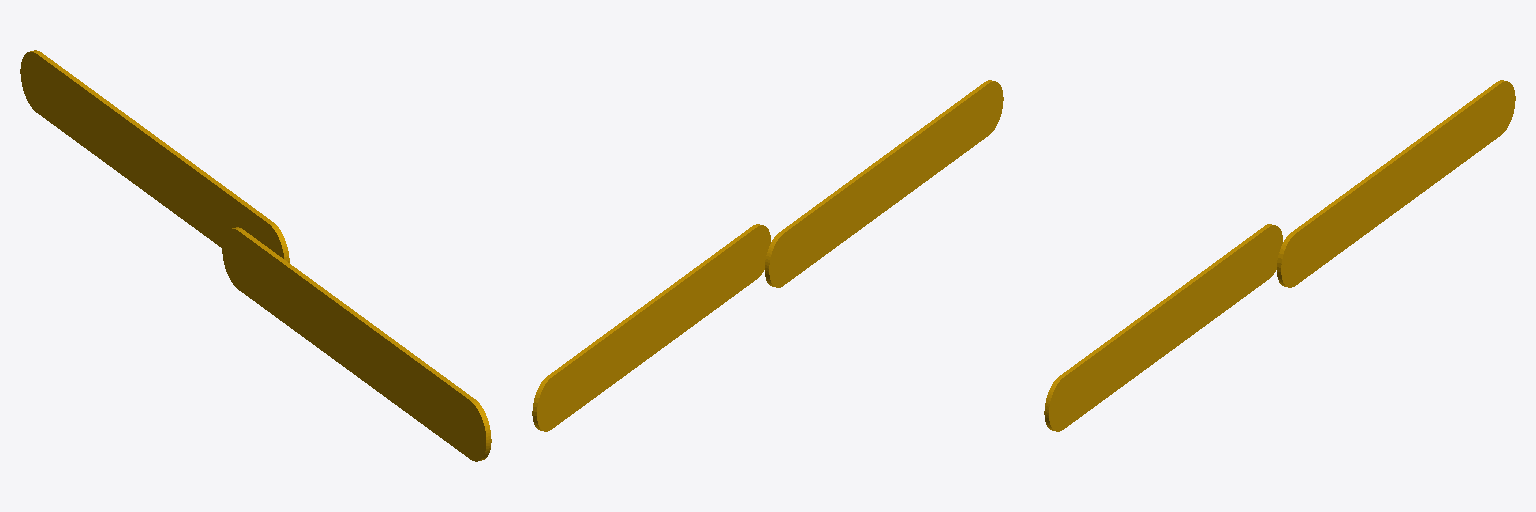
URDF robot description (example):
<?xml version="1.0"?>

<robot name="example">
  
  <!-- *************************************************** -->
  <!-- ***************** Kinematic Chain ***************** -->
  <!-- *************************************************** -->
  <!-- Note the 'origin' tag in the joints defines the
       shift and reorientation before the continuous joint
       rotates around the 'axis'. -->

  <!-- Locate the base plate at the world origin. -->
  <joint name="place" type="fixed">
    <parent link="world"/>
    <child  link="baseplate"/>
    <origin xyz="0 0 0" rpy="0 0 0"/>
  </joint>

  <!-- Shift across the base plate to the base motor. -->
  <joint name="baseplate" type="fixed">
    <parent link="baseplate"/>
    <child  link="basemotor"/>
    <origin xyz="0 0 0.02" rpy="0 0 0"/>
  </joint>

  <!-- Base motor.  Thickness: X5 = 31.1mm, X8 = 45.1mm -->
  <joint name="base" type="continuous">
    <parent link="basemotor"/>
    <child  link="lbracket"/>
    <origin xyz="0 0 0.0311" rpy="0 0 0"/>
    <axis   xyz="0 0 1"/>
  </joint>

  <!-- Shift across the L bracket -->
  <joint name="lbracket" type="fixed">
    <parent link="lbracket"/>
    <child  link="shouldermotor"/>
    <origin xyz="0.1 0 0.1" rpy="1.5708 0 -1.5708"/>
  </joint>

  <!-- Shoulder motor.  Thickness: X5 = 31.1mm, X8 = 45.1mm -->
  <joint name="shoulder" type="continuous">
    <parent link="shouldermotor"/>
    <child  link="upperarm"/>
    <origin xyz="0 0 0.0451" rpy="0 0 0"/>
    <axis   xyz="0 0 1"/>
  </joint>

  <!-- Shift across the upper arm (1/4in thickness) -->
  <joint name="upperarm" type="fixed">
    <parent link="upperarm"/>
    <child  link="elbowmotor"/>
    <origin xyz="0.5 0 0.00635" rpy="0 0 0"/>
  </joint>

  <!-- Elbow motor.  Thickness: X5 = 31.1mm, X8 = 45.1mm -->
  <joint name="elbow" type="continuous">
    <parent link="elbowmotor"/>
    <child  link="lowerarm"/>
    <origin xyz="0 0 0.0311" rpy="0 0 0"/>
    <axis   xyz="0 0 1"/>
  </joint>

  <!-- Shift across the upper arm (1/4in thickness) -->
  <joint name="lowerarm" type="fixed">
    <parent link="lowerarm"/>
    <child  link="tip"/>
    <origin xyz="0.5 0 0.003175" rpy="0 0 0"/>
  </joint>

  
  <!-- *************************************************** -->
  <!-- *************** Visual Link Elements ************** -->
  <!-- *************************************************** -->
  <!-- Note collada .dae files have better color/texture   -->
  <!-- suppport that STL files.                            -->

  <!-- Colors -->
  <material name="wood">  <color rgba="0.82 0.62 0.04 1"/>  </material>
  <material name="hebi">  <color rgba="0.82 0.06 0.06 1"/>  </material>

  <!-- World can't take a visual element (at least in Gazebo). -->
  <link name="world"/>

  <link name="baseplate">
    <!-- Add a visual element -->
  </link>

  <link name="basemotor">
    <visual>
      <geometry>
        <mesh filename="package://basic134/meshes/X5.stl"
	      scale="0.001 0.001 0.001"/>
      </geometry>
      <material name="hebi"/>
    </visual>
  </link>

  <link name="lbracket">
    <!-- Add a visual element -->
  </link>

  <link name="shouldermotor">
    <visual>
      <geometry>
        <mesh filename="package://basic134/meshes/X8.stl"
	      scale="0.001 0.001 0.001"/>
      </geometry>
      <material name="hebi"/>
    </visual>
  </link>

  <link name="upperarm">
    <visual>
      <geometry>
        <mesh filename="package://basic134/meshes/basiclink.dae"/>
      </geometry>
    </visual>
  </link>

  <link name="elbowmotor">
    <visual>
      <geometry>
        <mesh filename="package://basic134/meshes/X5.stl"
	      scale="0.001 0.001 0.001"/>
      </geometry>
      <material name="hebi"/>
    </visual>
  </link>

  <link name="lowerarm">
    <visual>
      <geometry>
        <mesh filename="package://basic134/meshes/basiclink.stl"/>
      </geometry>
      <material name="wood"/>
    </visual>
  </link>

  <link name="tip"/>

</robot>

--- Render facts (derived) ---
3 views of the same robot in one strip: view 1: azimuth 30°, elevation 25°; view 2: azimuth 150°, elevation 25°; view 3: azimuth 330°, elevation 25° (orthographic).
Model example with 9 links and 8 joints (3 continuous, 5 fixed), rooted at world, posed every joint at zero.
Links seen in each view (by area): view 1: lowerarm, upperarm; view 2: lowerarm, upperarm; view 3: upperarm, lowerarm.
Boxes of the visible links, x1,y1,x2,y2 form: lowerarm: (222, 227, 491, 461); upperarm: (20, 50, 289, 262); lowerarm: (765, 80, 1003, 287); upperarm: (532, 224, 770, 431); upperarm: (1277, 80, 1515, 287); lowerarm: (1044, 224, 1282, 431).
Size in the robot's own frame: 0.0438 by 1.07 by 0.07 metres.
2 mesh visuals loaded from 4 distinct referenced files (1 binary STL, 1 Collada DAE); not drawn: 3 (reference not matched to a file when rendering).